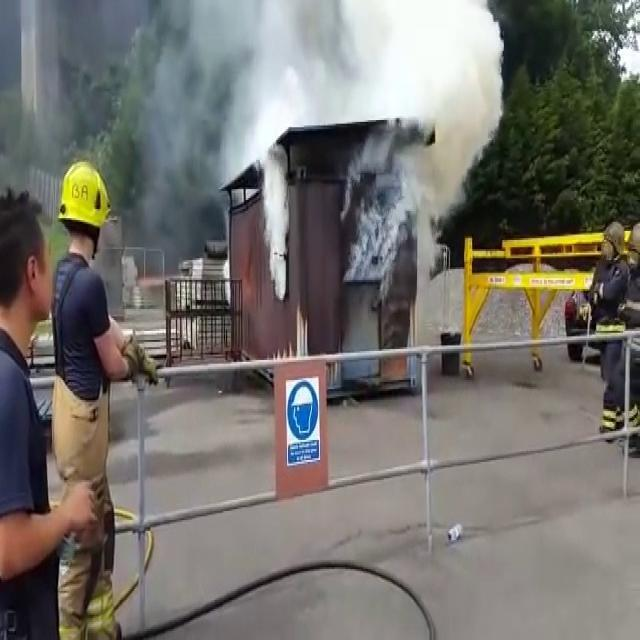Smoke: (194, 0, 520, 132), (404, 128, 464, 284), (349, 132, 405, 280)
